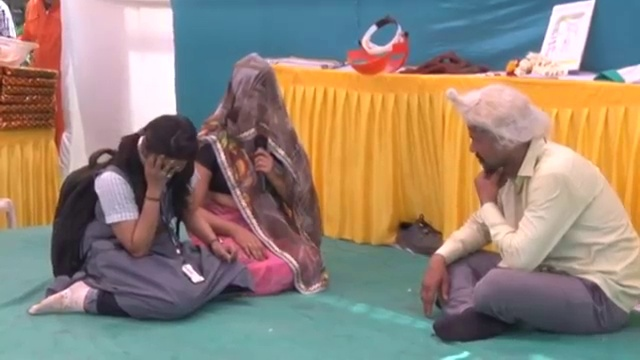helmet: (0, 36, 39, 71)
helmet_off: (454, 92, 542, 180), (129, 112, 195, 192), (224, 55, 281, 133)
person: (412, 85, 640, 341), (33, 110, 223, 313), (185, 59, 322, 288), (21, 2, 66, 69)
